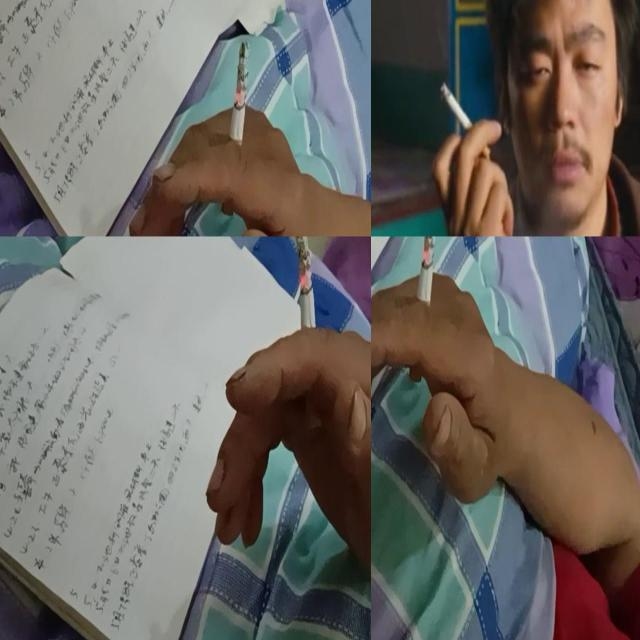smoking: (220, 42, 250, 218), (295, 236, 321, 432), (408, 236, 438, 382), (439, 81, 492, 159)
